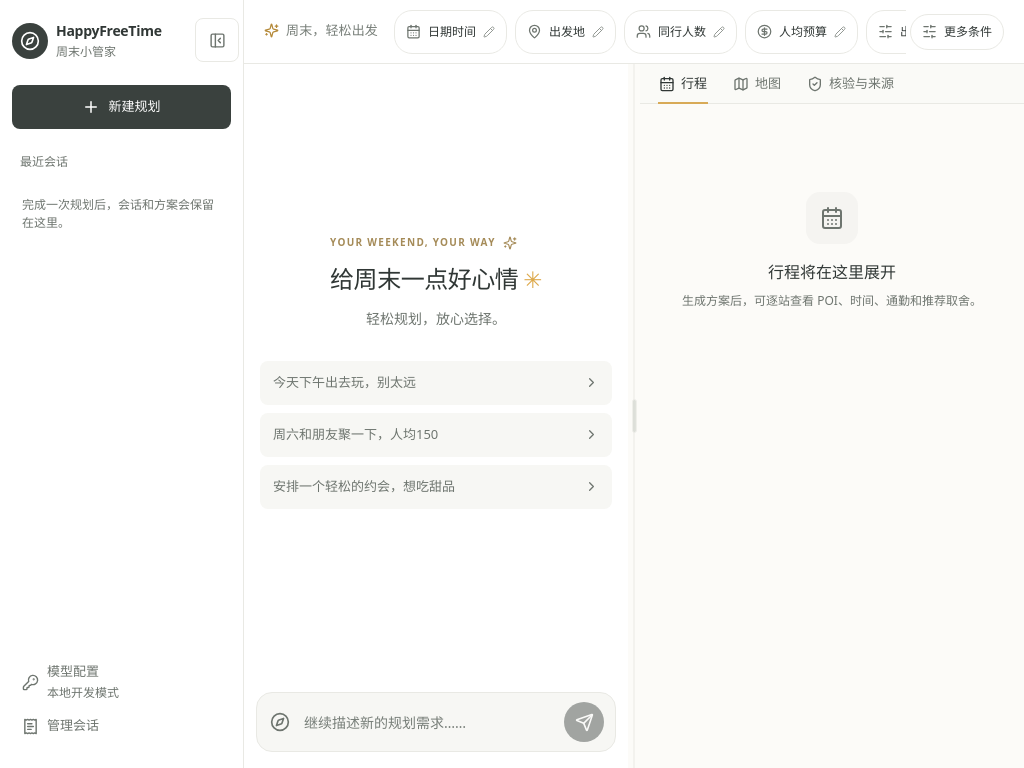
it: planning workspace › scopes verification evidence to the viewed plan and deduplicates risks
Type "今天下午出去玩" into the field named "描述你的空闲时间和偏好" at (430, 722), box [296,700,564,744]
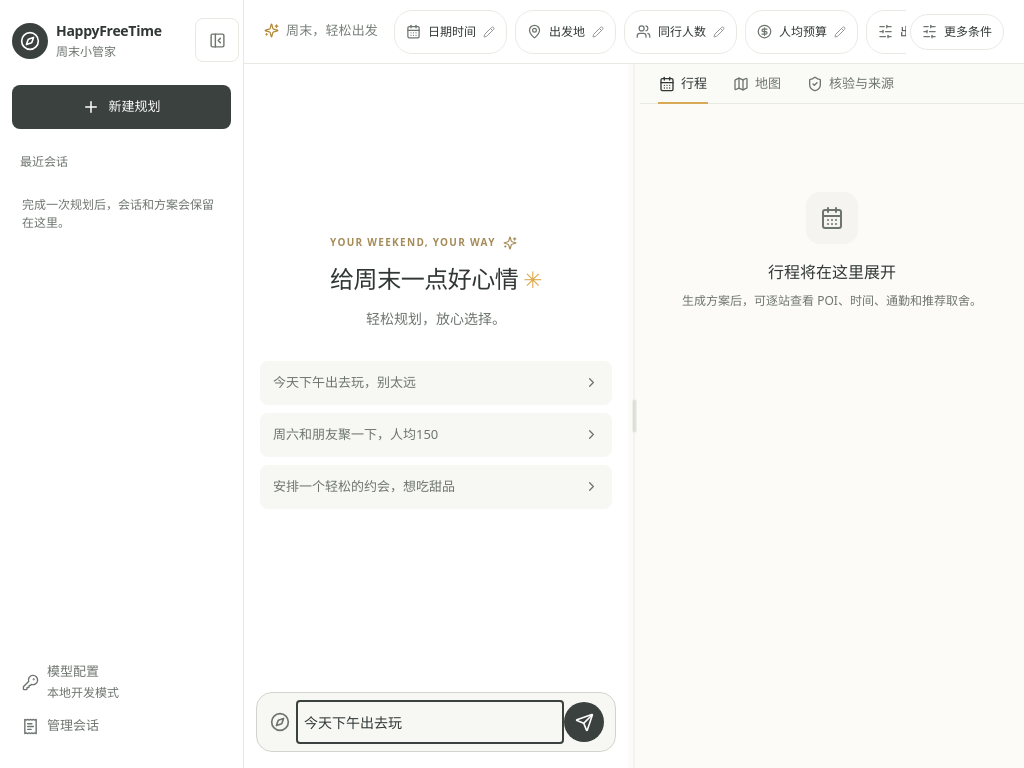
Click the button named "发送需求" at (584, 722), box [564,702,604,742]
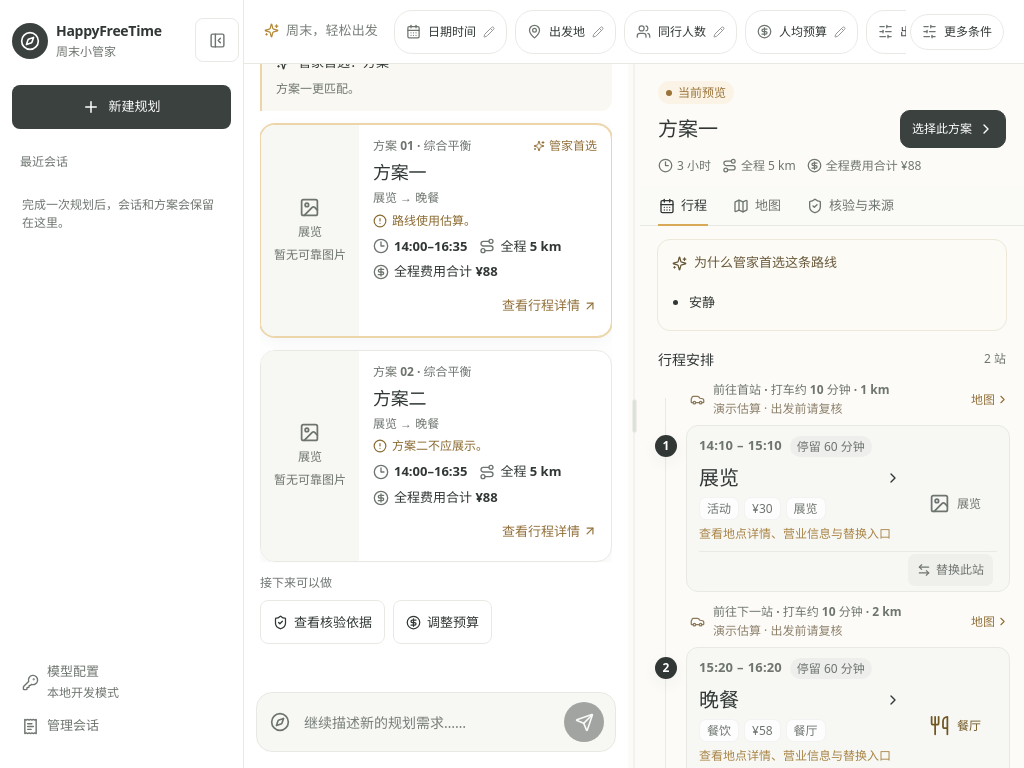
Click the tab "核验与来源" at (850, 206), box [806,186,895,225]
(page scrolled)
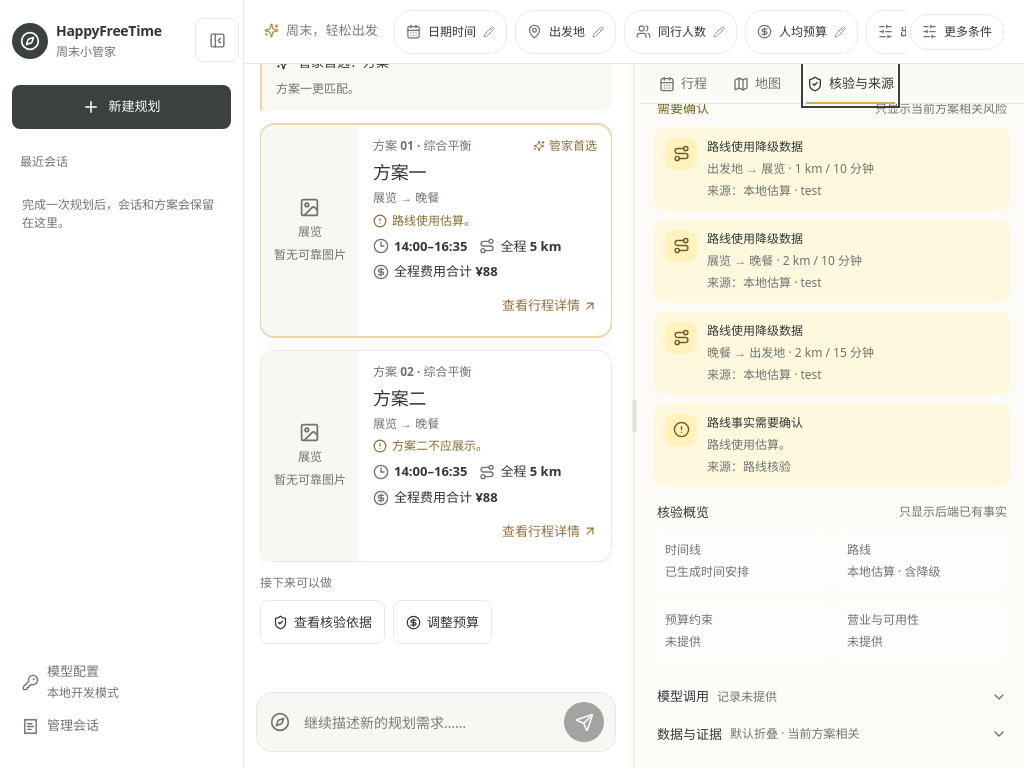
Check: the text "方案一安静" is not shown
Click the heading "数据与证据" at (690, 734), box [657,724,722,744]
(page scrolled)
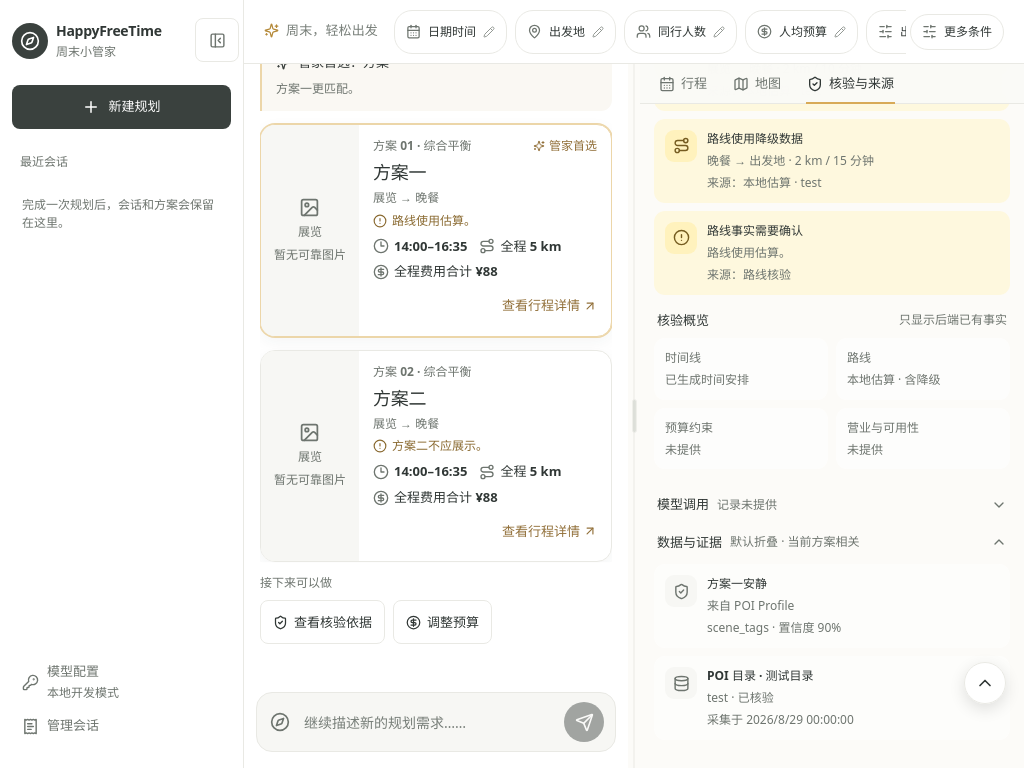
Check: the text "路线事实需要确认" is shown once, box [707,222,803,239]
Check: the text "方案一安静" is shown, box [707,575,767,592]
